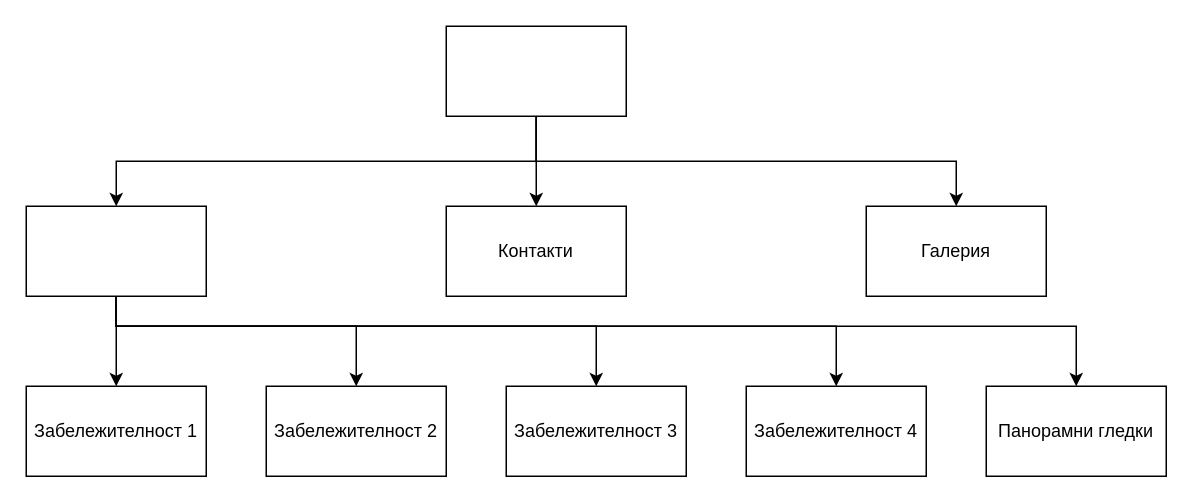
The diagram is 1193 pixels wide and 503 high, and some of its shapes have lost their labels. The centre of each missing label's shape, as x and y in pixels:
Забележителности: the point at 115,250
Начална страница: the point at 535,70
